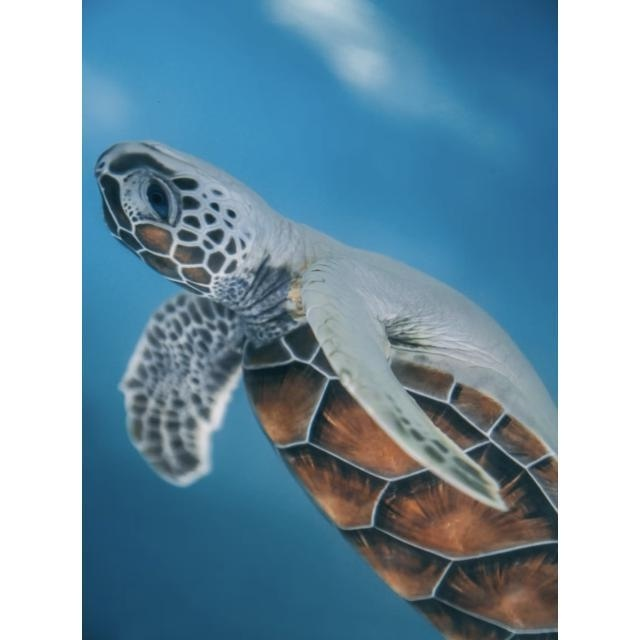turtle: (92, 138, 555, 638)
